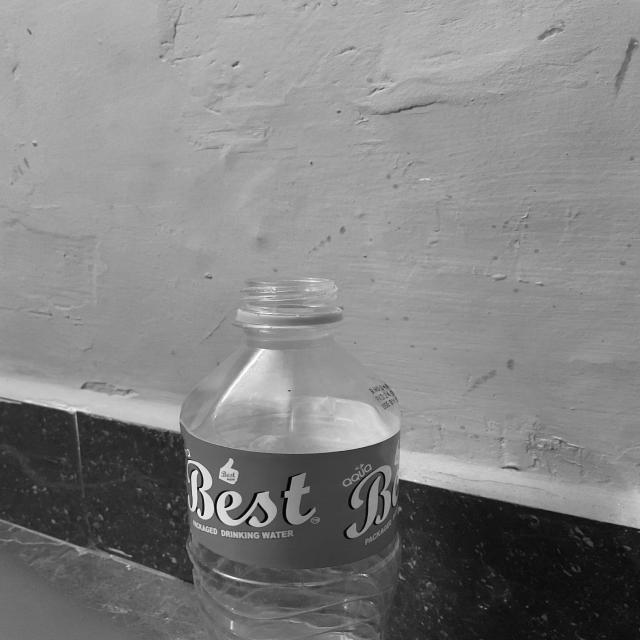open-cap: (240, 274, 346, 330)
